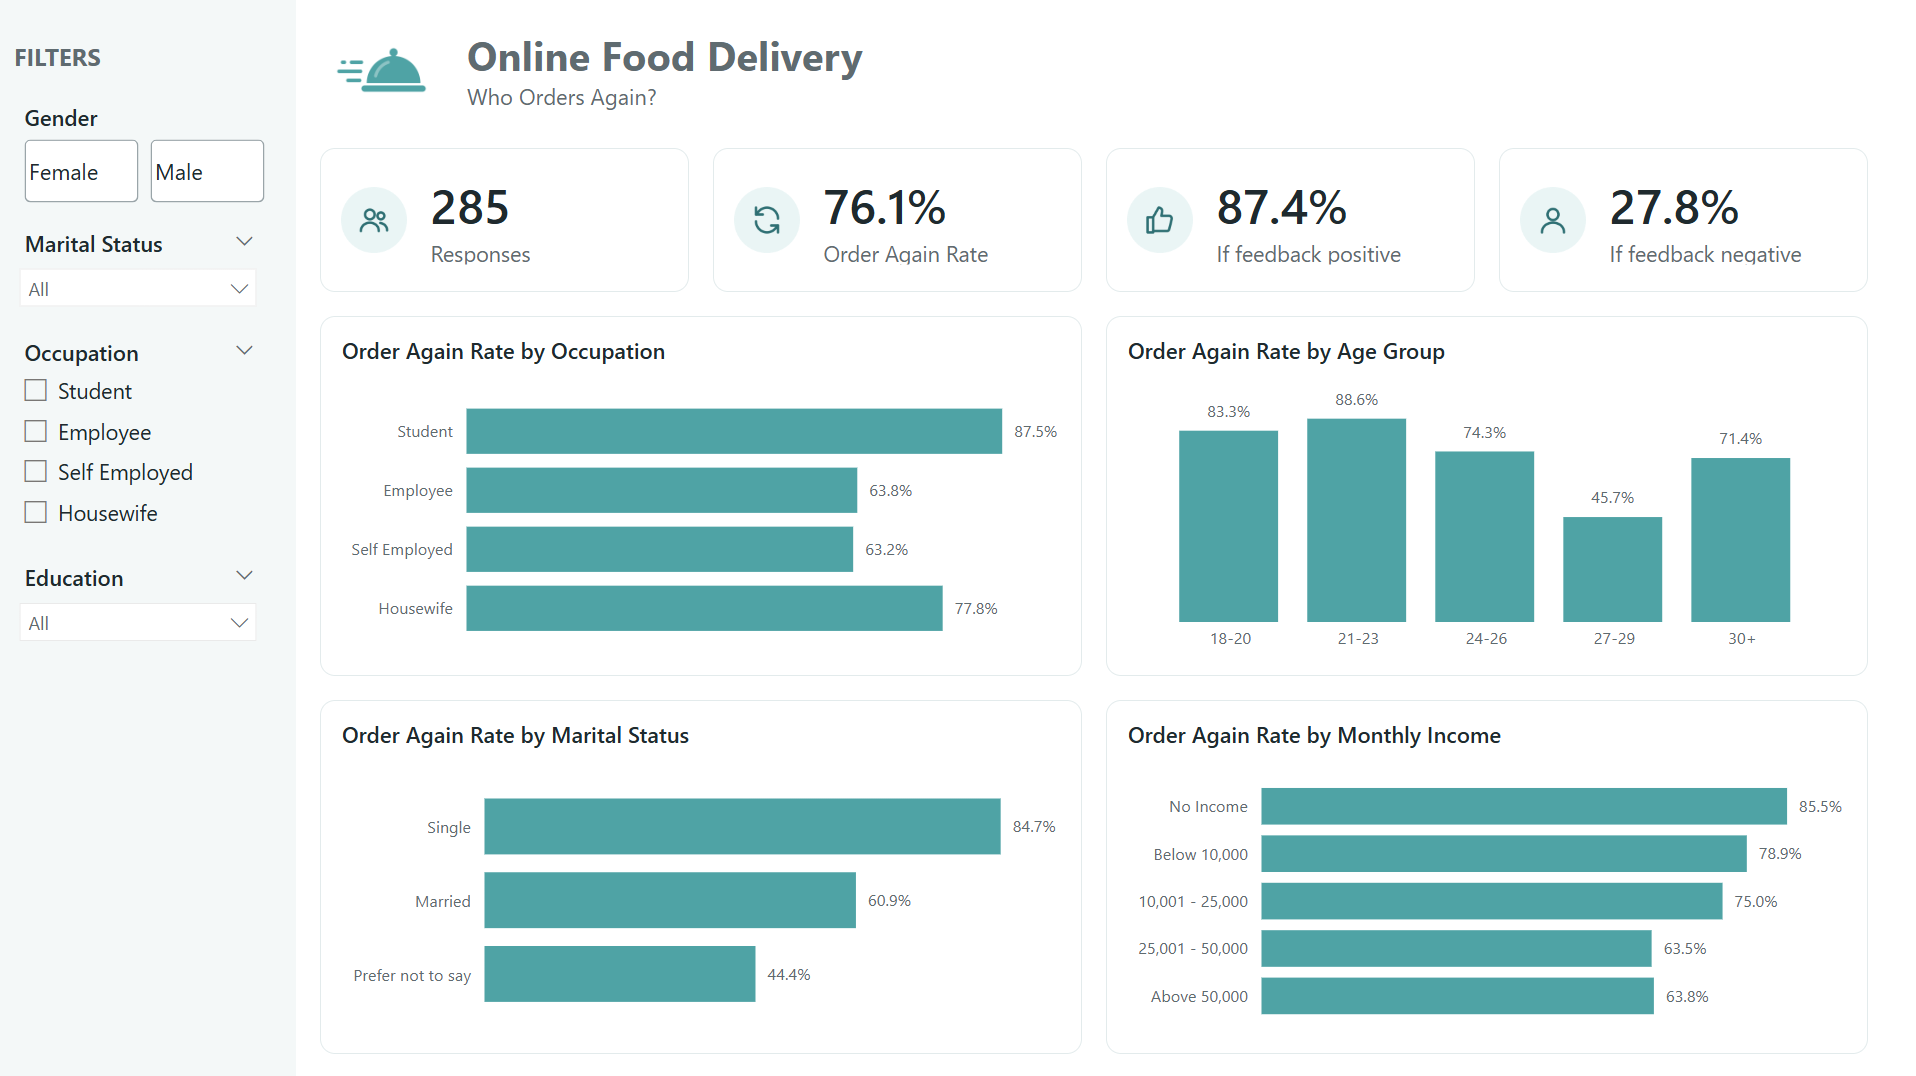

This screenshot's page, from the dashboard's own definition file:
{"tool":"powerbi","page":{"name":"Who Orders Again","canvas":[1280,720],"ordinal":1},"visuals":[{"type":"cardVisual","fields":{"Data":["_Measures.Order Again Rate | Positive"]},"box":[740,100,246,96],"z":1000},{"type":"shape","box":[0,0,200,720],"z":2000},{"type":"textbox","box":[300,8,480,86],"z":3000},{"type":"image","box":[212,16,90,64],"z":4000},{"type":"cardVisual","fields":{"Data":["_Measures.Responses"]},"box":[216,100,246,96],"z":5000},{"type":"cardVisual","fields":{"Data":["_Measures.Order Again Rate"]},"box":[478,100,246,96],"z":6000},{"type":"cardVisual","fields":{"Data":["_Measures.Order Again Rate | Negative"]},"box":[1002,100,246,96],"z":7000},{"type":"clusteredBarChart","fields":{"Category":["DimOccupation.Occupation"],"Y":["_Measures.Order Again Rate"]},"box":[216,212,508,240],"z":8000},{"type":"clusteredBarChart","fields":{"Category":["DimMaritalStatus.Marital Status"],"Y":["_Measures.Order Again Rate"]},"box":[216,468,508,236],"z":9000},{"type":"clusteredColumnChart","fields":{"Category":["DimAgeGroup.Age Group"],"Y":["_Measures.Order Again Rate"]},"box":[740,212,508,240],"z":10000},{"type":"textbox","box":[12,28,176,23],"z":11000},{"type":"image","box":[230,126,44,44],"z":12000},{"type":"image","box":[492,126,44,44],"z":13000},{"type":"image","box":[1016,126,44,44],"z":14000},{"type":"image","box":[754,126,44,44],"z":15000},{"type":"slicer","fields":{"Values":["DimMaritalStatus.Marital Status"]},"box":[11,153,168,55],"z":16000},{"type":"slicer","fields":{"Values":["DimOccupation.Occupation"]},"box":[11,225.5,168,133],"z":17000},{"type":"advancedSlicerVisual","fields":{"Values":["DimGender.Gender"]},"box":[19,69,160,67],"z":18000},{"type":"slicer","fields":{"Values":["DimEducation.Education"]},"box":[11,376,168,55],"z":19000},{"type":"clusteredBarChart","fields":{"Category":["DimIncome.Monthly Income"],"Y":["_Measures.Order Again Rate"]},"box":[740,468,508,236],"z":19001}]}

Visuals, with their boxes on the page's 1280x720 design canvas (x1, y1, x2, y2). These are canvas units, not pixel positions in the 1916x1076 screenshot, which may show the page scaled, cropped or inside an application window:
cardVisual - _Measures.Order Again Rate | Positive: (740,100,986,196)
shape: (0,0,200,720)
textbox: (300,8,780,94)
image: (212,16,302,80)
cardVisual - _Measures.Responses: (216,100,462,196)
cardVisual - _Measures.Order Again Rate: (478,100,724,196)
cardVisual - _Measures.Order Again Rate | Negative: (1002,100,1248,196)
clusteredBarChart - DimOccupation.Occupation x _Measures.Order Again Rate: (216,212,724,452)
clusteredBarChart - DimMaritalStatus.Marital Status x _Measures.Order Again Rate: (216,468,724,704)
clusteredColumnChart - DimAgeGroup.Age Group x _Measures.Order Again Rate: (740,212,1248,452)
textbox: (12,28,188,51)
image: (230,126,274,170)
image: (492,126,536,170)
image: (1016,126,1060,170)
image: (754,126,798,170)
slicer - DimMaritalStatus.Marital Status: (11,153,179,208)
slicer - DimOccupation.Occupation: (11,226,179,358)
advancedSlicerVisual - DimGender.Gender: (19,69,179,136)
slicer - DimEducation.Education: (11,376,179,431)
clusteredBarChart - DimIncome.Monthly Income x _Measures.Order Again Rate: (740,468,1248,704)
